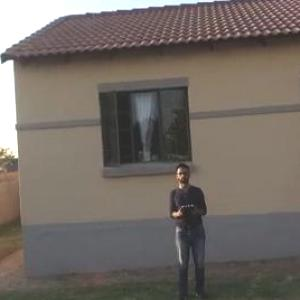follow: (167, 155, 215, 299)
